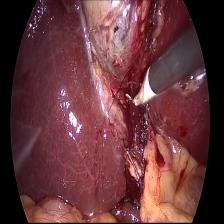Hook: (123, 65, 156, 109)
